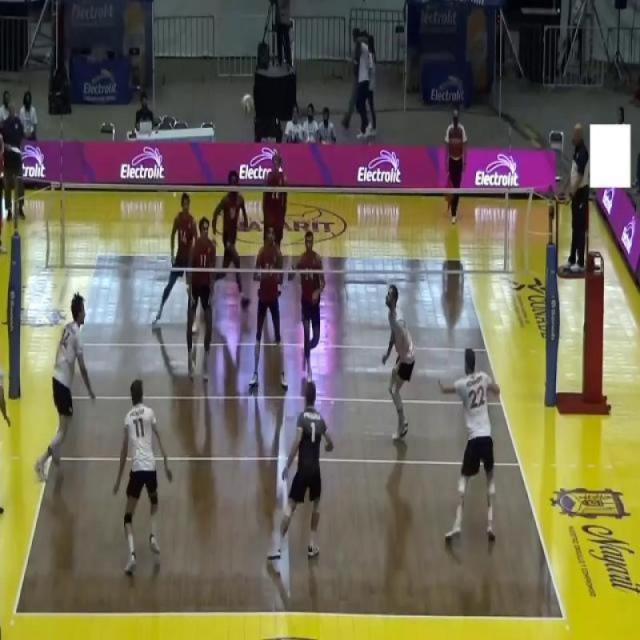volleyball: (240, 91, 255, 117)
